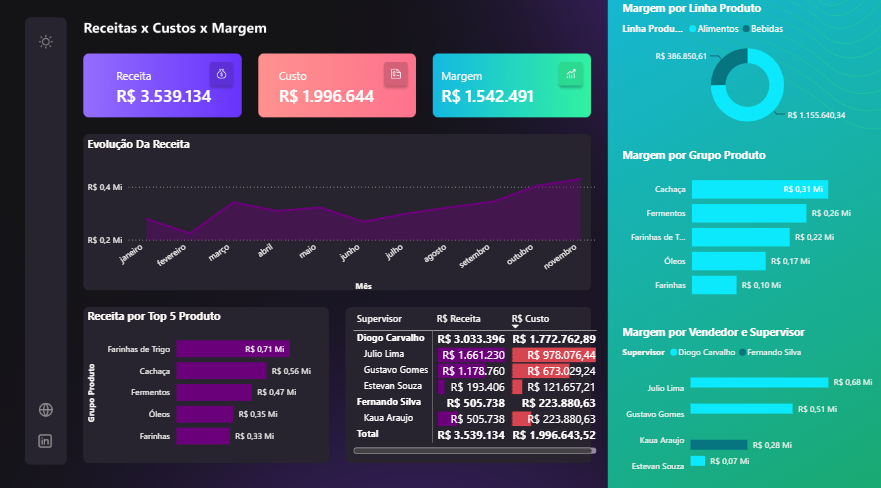

What the dashboard file says about the page in this screenshot:
{"tool":"powerbi","page":{"name":"Página 1","canvas":[1280,720],"ordinal":0},"visuals":[{"type":"cardVisual","fields":{"Data":["Vendas.R$ Receita","Vendas.R$ Custo","Vendas.R$ Margem"]},"box":[138.3,86.7,728.3,105],"z":0},{"type":"clusteredBarChart","title":" Receita por Top 5 Produto","fields":{"Category":["Produtos.Grupo Produto"],"Y":["Vendas.R$ Receita"]},"box":[121.7,456.7,365,215],"z":1000},{"type":"pivotTable","fields":{"Rows":["Vendas.Supervisor","Vendas.Vendedor"],"Values":["Vendas.R$ Receita","Vendas.R$ Custo"]},"box":[503.3,456.7,360,215],"z":2000},{"type":"areaChart","title":"Evolução Da Receita","fields":{"Category":["Vendas.Data.Variation.Hierarquia de datas.Ano","Vendas.Data.Variation.Hierarquia de datas.Trimestre","Vendas.Data.Variation.Hierarquia de datas.Mês","Vendas.Data.Variation.Hierarquia de datas.Dia"],"Y":["Vendas.R$ Receita"]},"box":[121.7,208.3,745,228.3],"z":3000},{"type":"clusteredBarChart","title":" Margem por Grupo Produto","fields":{"Category":["Produtos.Grupo Produto"],"Y":["Vendas.R$ Margem"]},"box":[891.7,225,370,231.7],"z":4000},{"type":"clusteredBarChart","title":"Margem por Vendedor e Supervisor","fields":{"Y":["Vendas.R$ Margem"],"Category":["Vendas.Vendedor"],"Series":["Vendas.Supervisor"]},"box":[891.7,480,370,240],"z":5000},{"type":"donutChart","title":" Margem por Linha Produto","fields":{"Y":["Vendas.R$ Margem"],"Category":["Produtos.Linha Produto"]},"box":[891.7,13.3,370,195],"z":6000}]}

Visuals, with their boxes on the page's 1280x720 design canvas (x1, y1, x2, y2). These are canvas units, not pixel positions in the 881x488 screenshot, which may show the page scaled, cropped or inside an application window:
cardVisual - Vendas.R$ Receita x Vendas.R$ Custo: (x1=138, y1=87, x2=867, y2=192)
" Receita por Top 5 Produto" clusteredBarChart: (x1=122, y1=457, x2=487, y2=672)
pivotTable - Vendas.Supervisor x Vendas.Vendedor: (x1=503, y1=457, x2=863, y2=672)
"Evolução Da Receita" areaChart: (x1=122, y1=208, x2=867, y2=437)
" Margem por Grupo Produto" clusteredBarChart: (x1=892, y1=225, x2=1262, y2=457)
"Margem por Vendedor e Supervisor" clusteredBarChart: (x1=892, y1=480, x2=1262, y2=720)
" Margem por Linha Produto" donutChart: (x1=892, y1=13, x2=1262, y2=208)
